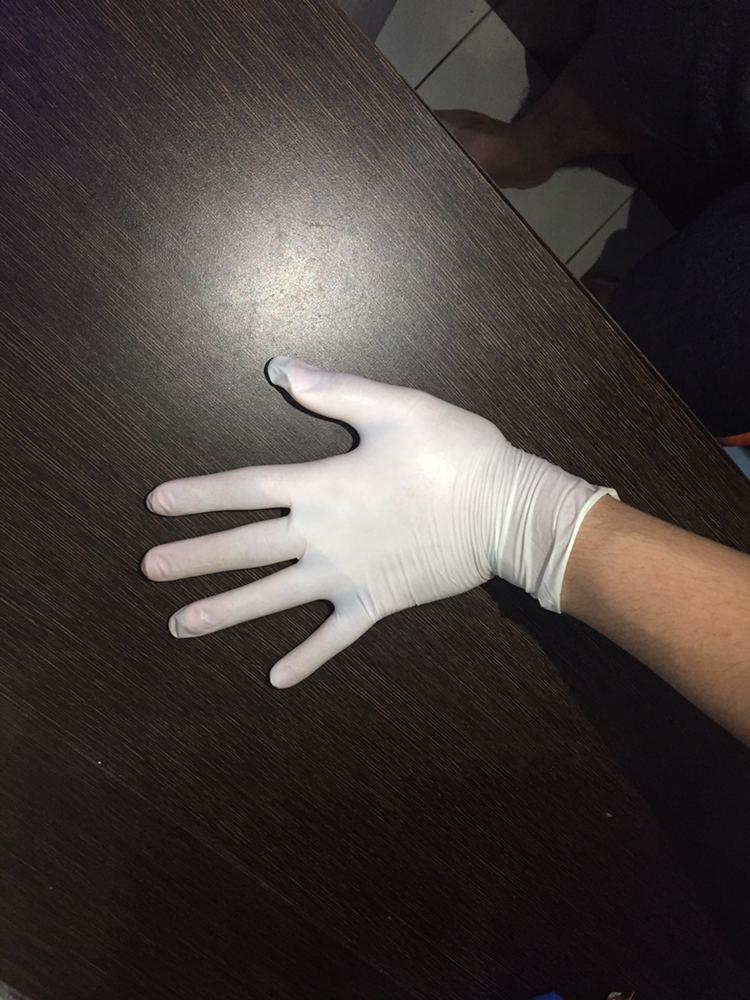glove: (103, 296, 547, 725)
